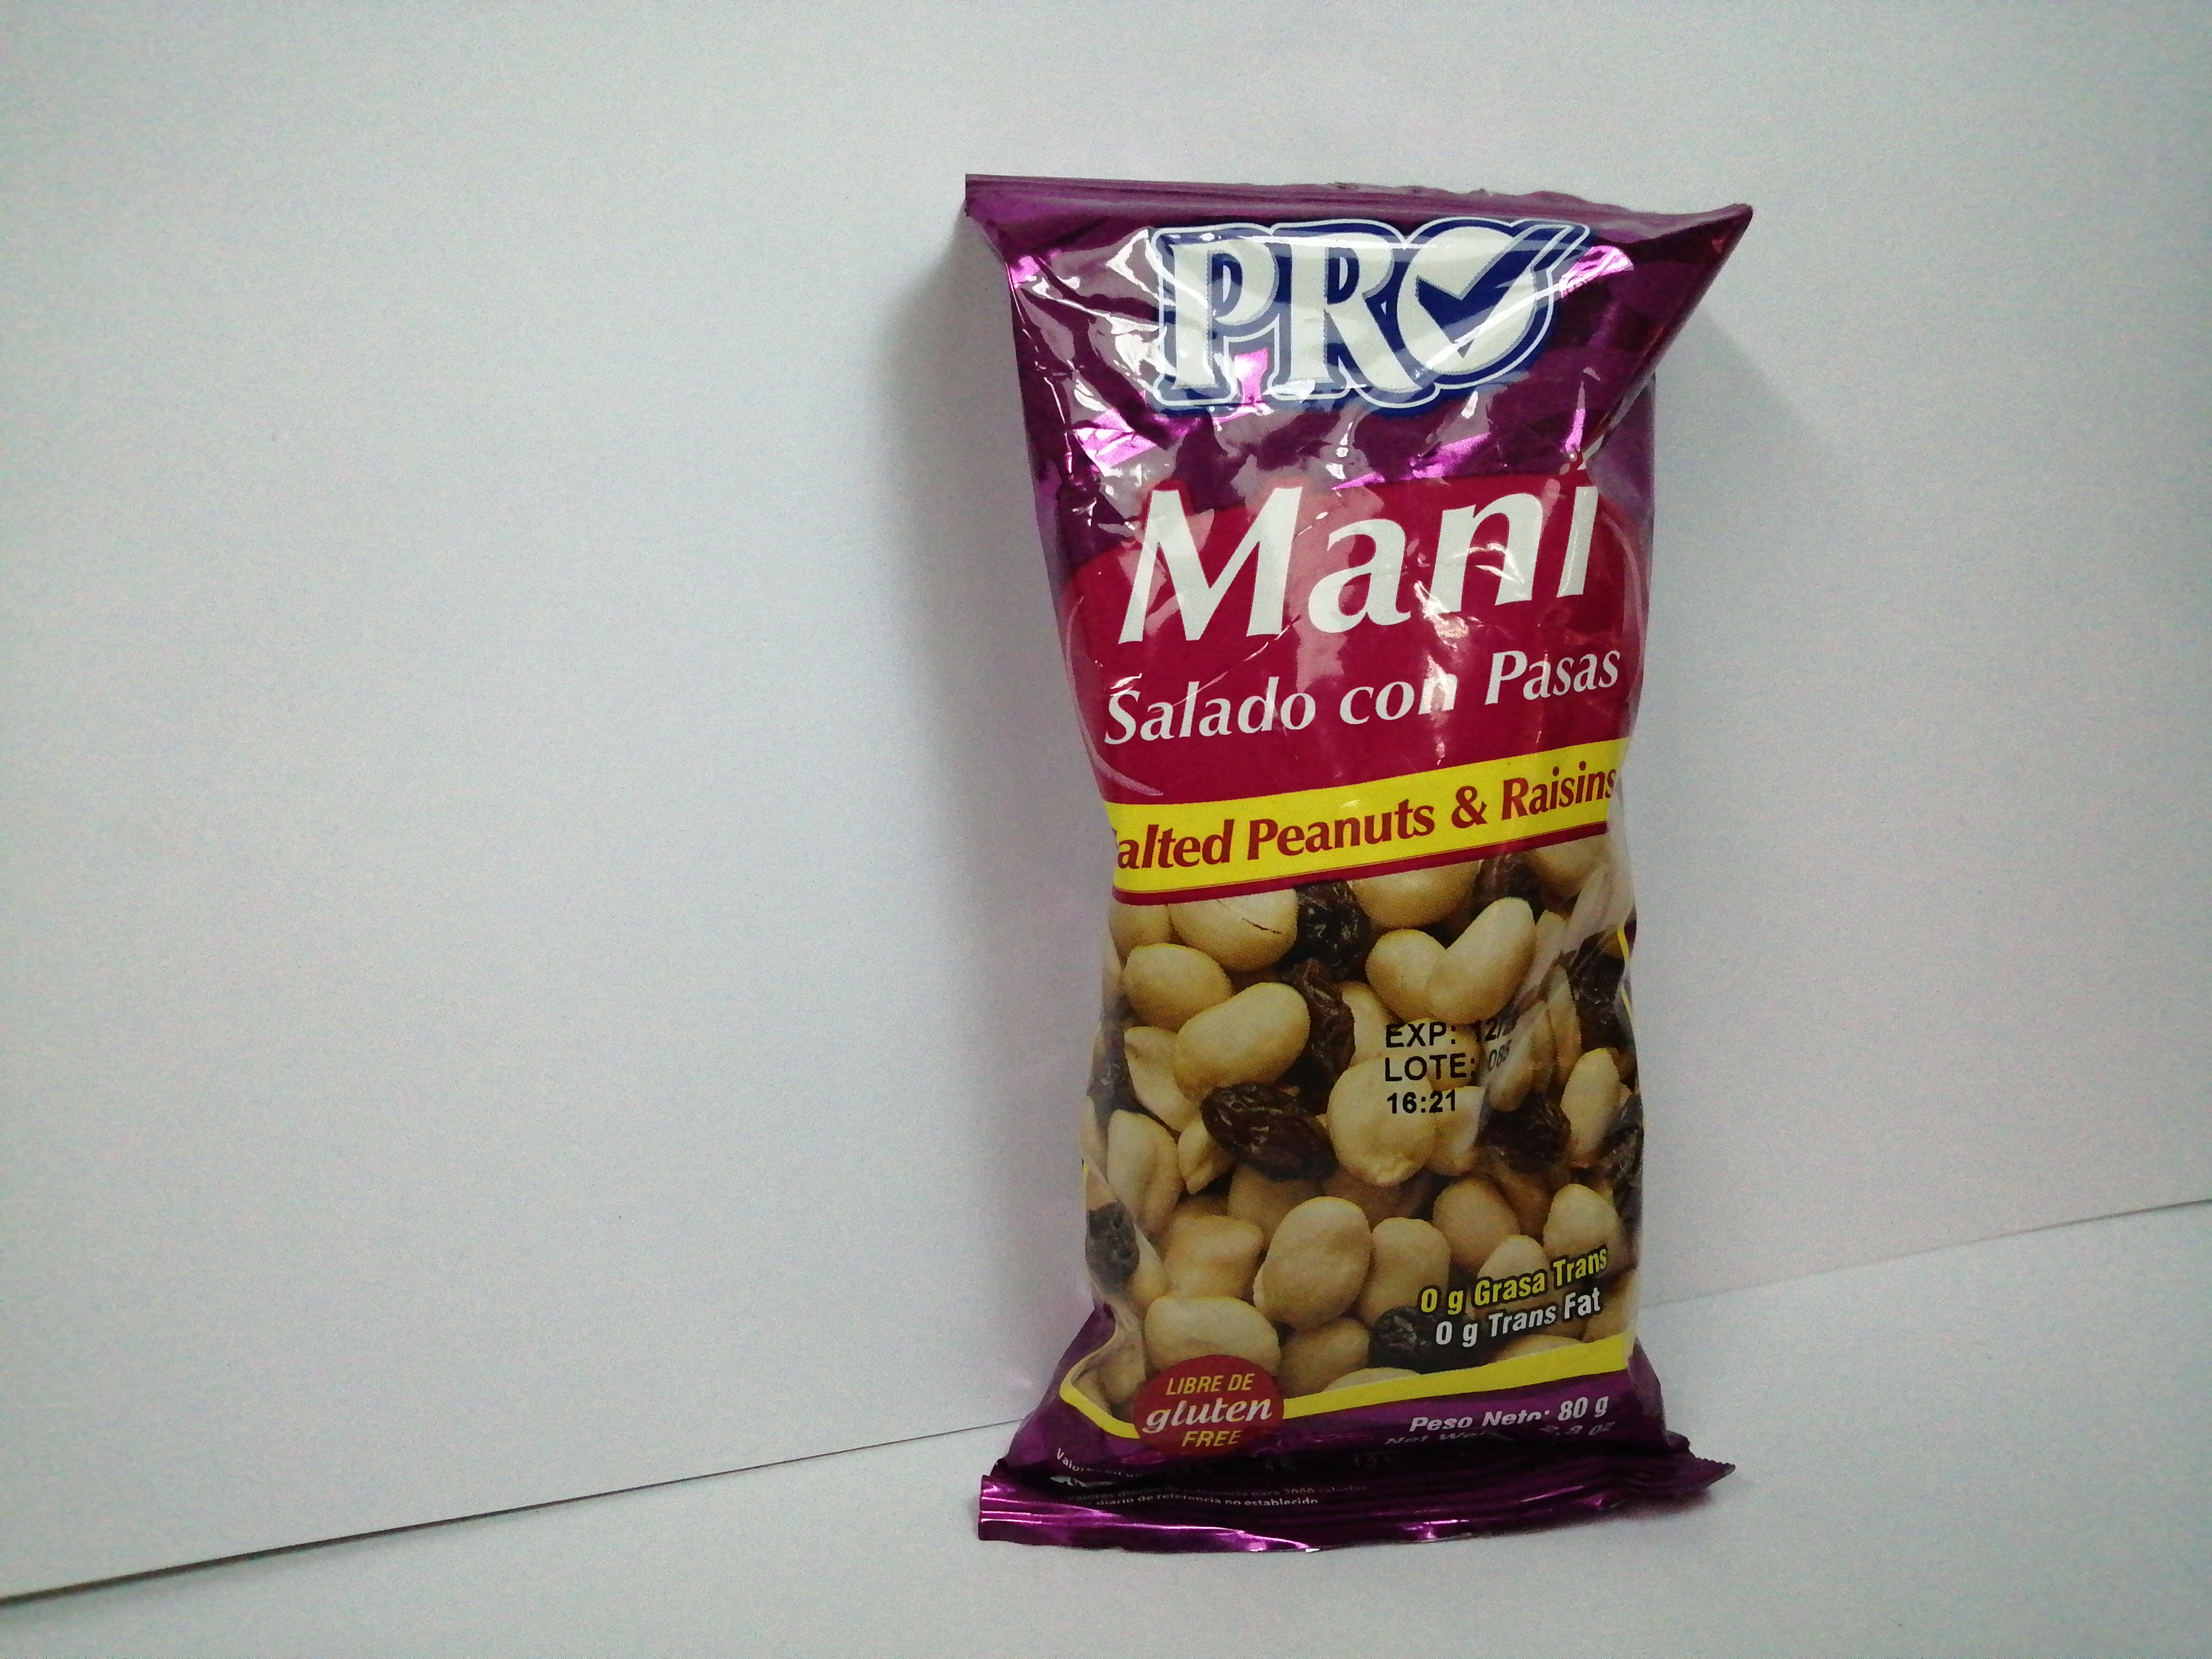mani: (963, 171, 1752, 1558)
